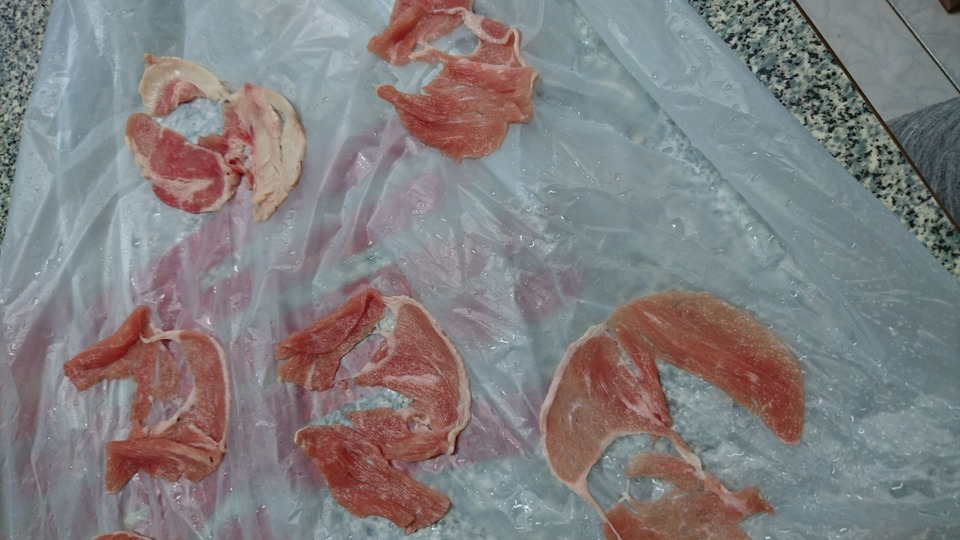restructured meat: (534, 289, 807, 540), (274, 280, 477, 531), (124, 44, 306, 225), (70, 306, 252, 487), (368, 1, 550, 181)
